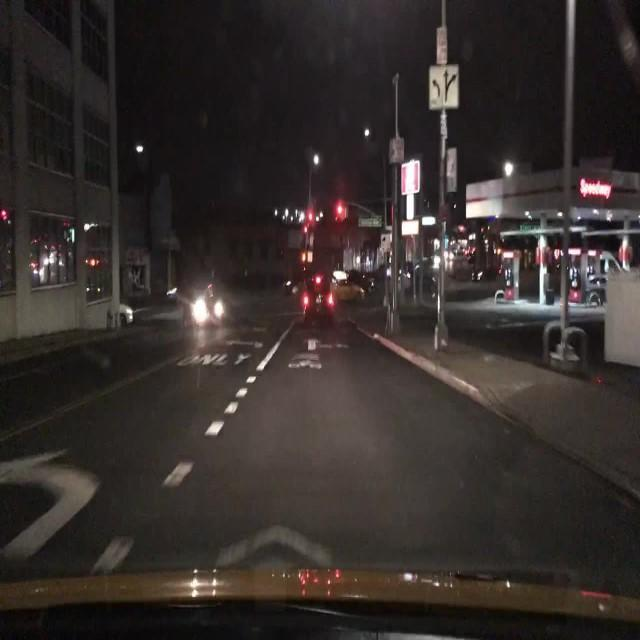normal: (267, 257, 375, 346)
